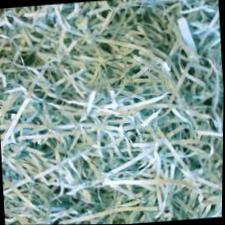paper: (0, 0, 222, 224)
